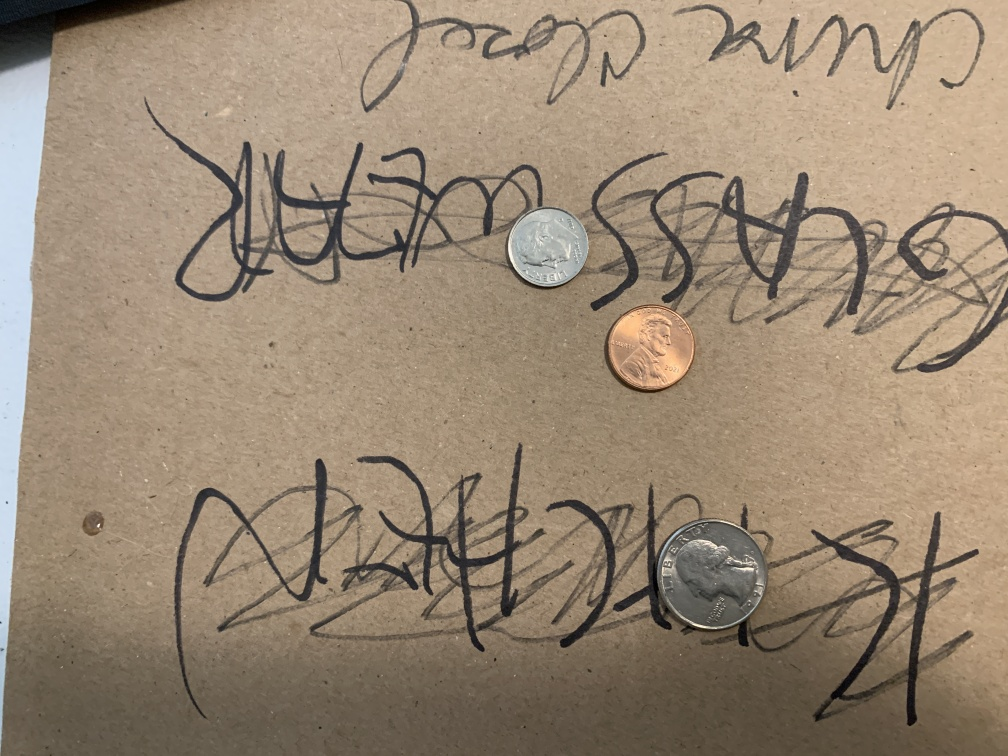dime: (502, 205, 592, 291)
penny: (603, 301, 700, 396)
quarter: (657, 516, 770, 635)
